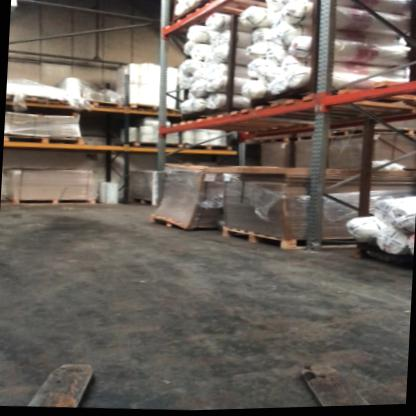vertical_damage: (301, 232, 326, 258)
